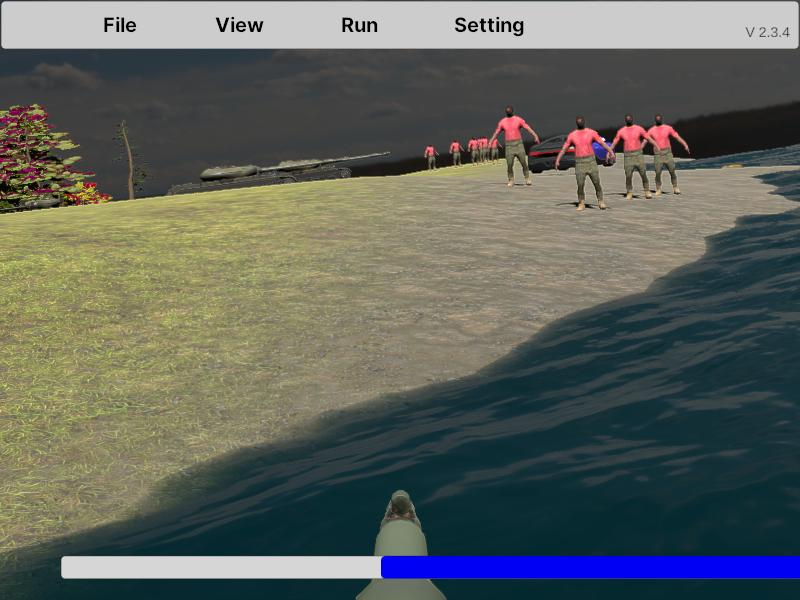Human: (556, 117, 616, 210), (608, 114, 662, 198), (490, 104, 541, 188), (638, 114, 690, 196), (489, 106, 540, 188)
car: (518, 132, 607, 174)
